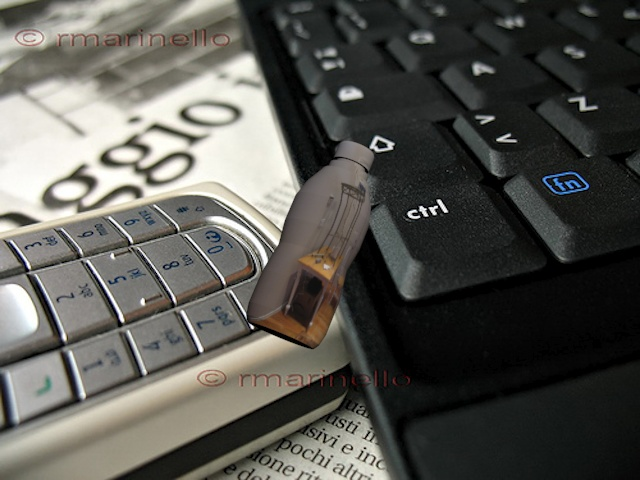bottle: (241, 129, 384, 353)
